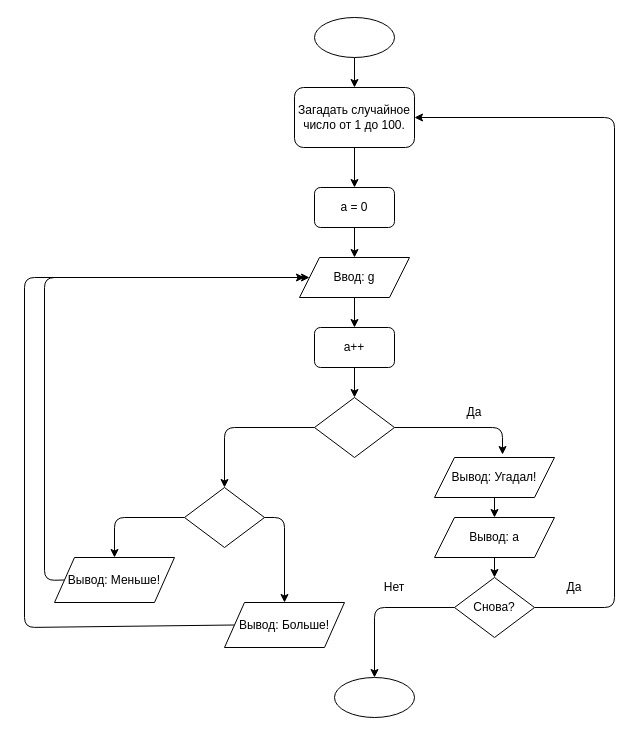
The diagram is 640 pixels wide and 735 high, and some of its shapes have lost their labels. Here are the shapes that lost their labels. From the top down, the centre of each, then its label:
(x=354, y=37): Начало
(x=354, y=427): g == n?
(x=224, y=517): g < n?
(x=374, y=697): Конец
